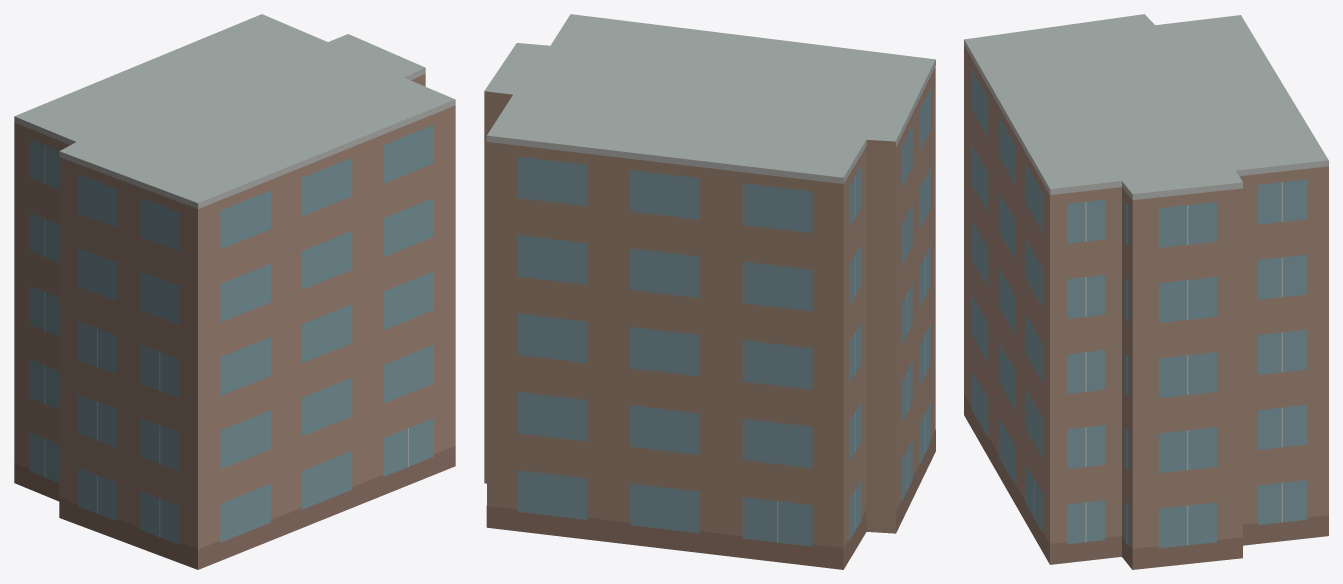
Rendered from survey-upis-32672435.glb.
3 views of the same model, side by side, from view 1: azimuth 30°, elevation 25°; view 2: azimuth 150°, elevation 25°; view 3: azimuth 270°, elevation 25° (orthographic). The views are drawn at different scales.
Parts seen in each view (by area): view 1: survey-upis-32672435.tmp; view 2: survey-upis-32672435.tmp; view 3: survey-upis-32672435.tmp.
Part boxes in pixels (x1=…): survey-upis-32672435.tmp: x1=14, y1=14, x2=455, y2=569; survey-upis-32672435.tmp: x1=484, y1=14, x2=935, y2=569; survey-upis-32672435.tmp: x1=964, y1=14, x2=1328, y2=569.
Bounding box in the file's own units: 15.7 × 15.25 × 13.43.
